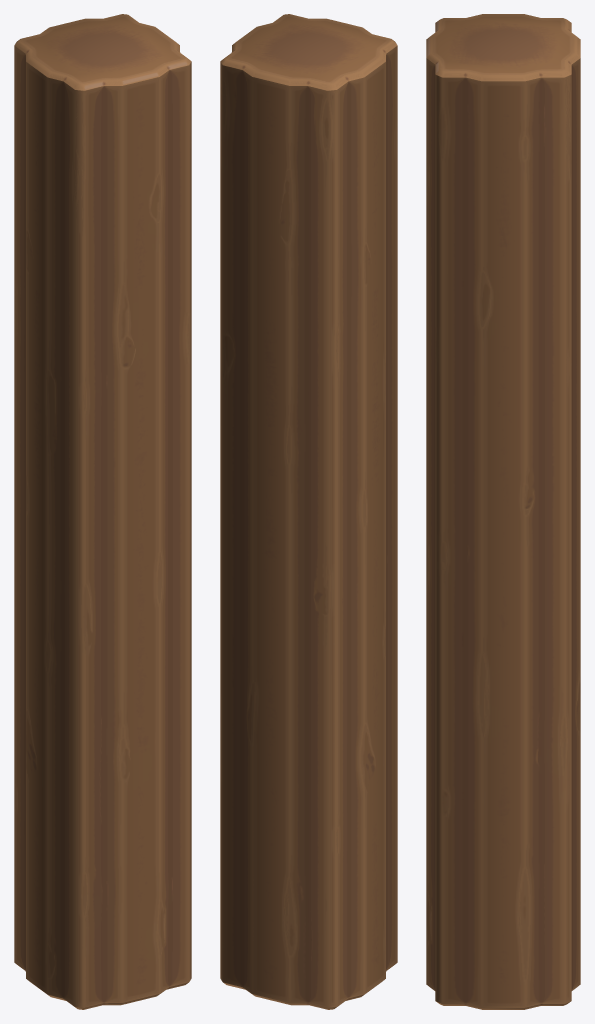
Rendered from ARC0510088.fbx.
The picture shows the model from 3 angles, left to right: view 1: azimuth 30°, elevation 25°; view 2: azimuth 150°, elevation 25°; view 3: azimuth 270°, elevation 25°; orthographic projection.
Visible parts, largest first — view 1: smARC0510088; view 2: smARC0510088; view 3: smARC0510088.
Boxes of the visible parts, x1,y1,x2,y2 form: smARC0510088: (14,14,191,1009); smARC0510088: (220,14,397,1009); smARC0510088: (426,14,580,1009).
Size of the model in its own units: 44.91 by 300 by 44.91.
